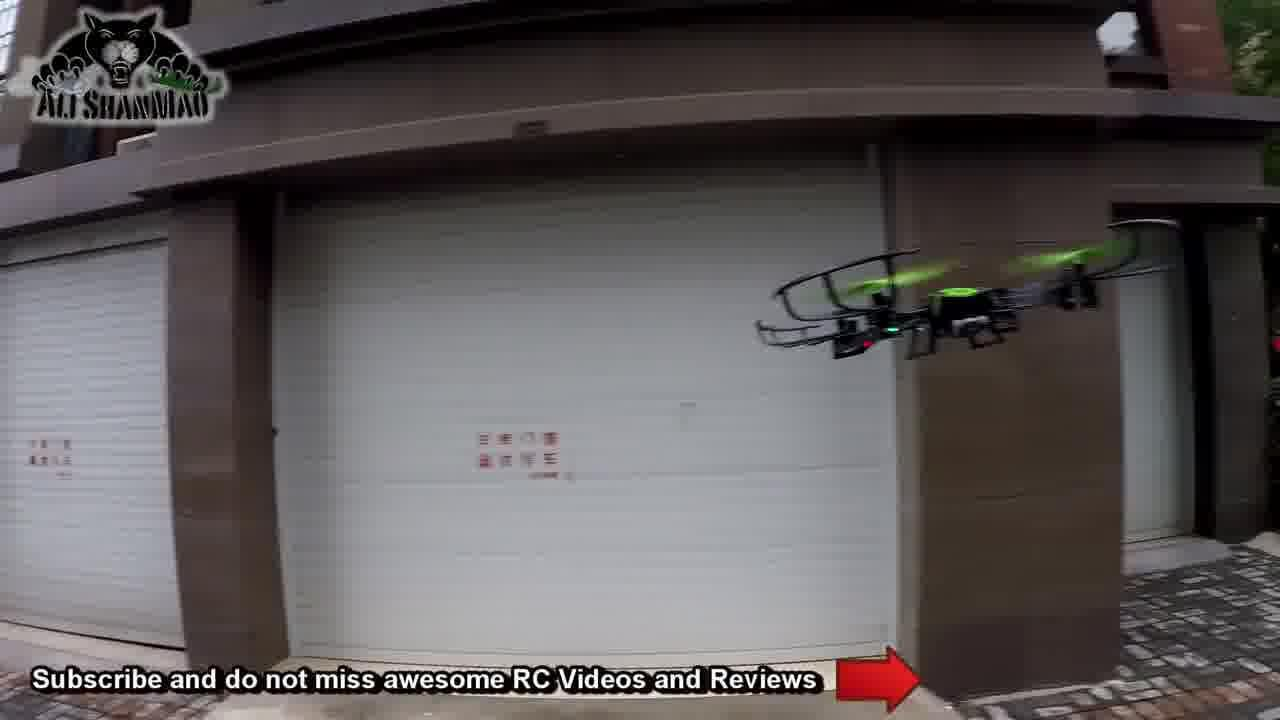drone: (746, 201, 1193, 379)
